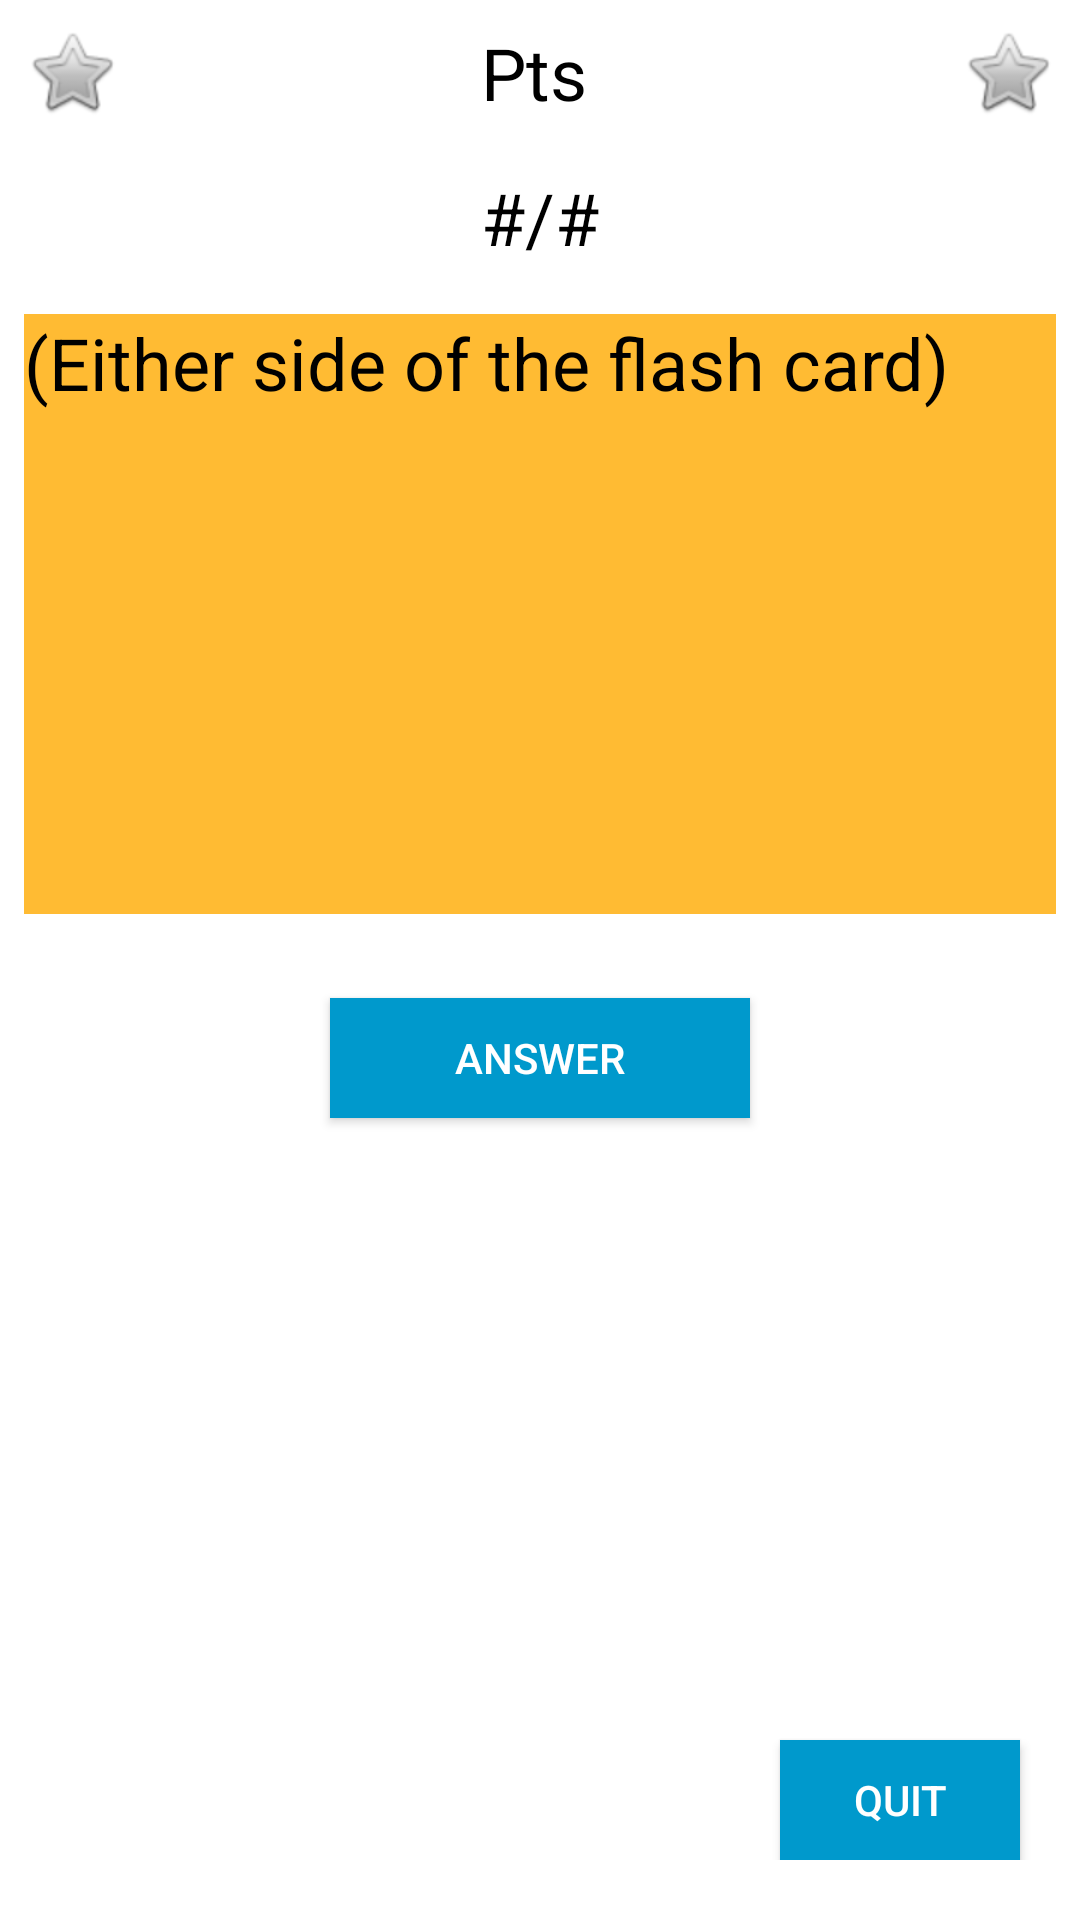

Icon click points for this 1080w x 1920h phone screenshot, format (x,y):
star: (73,73), (1009,73)
